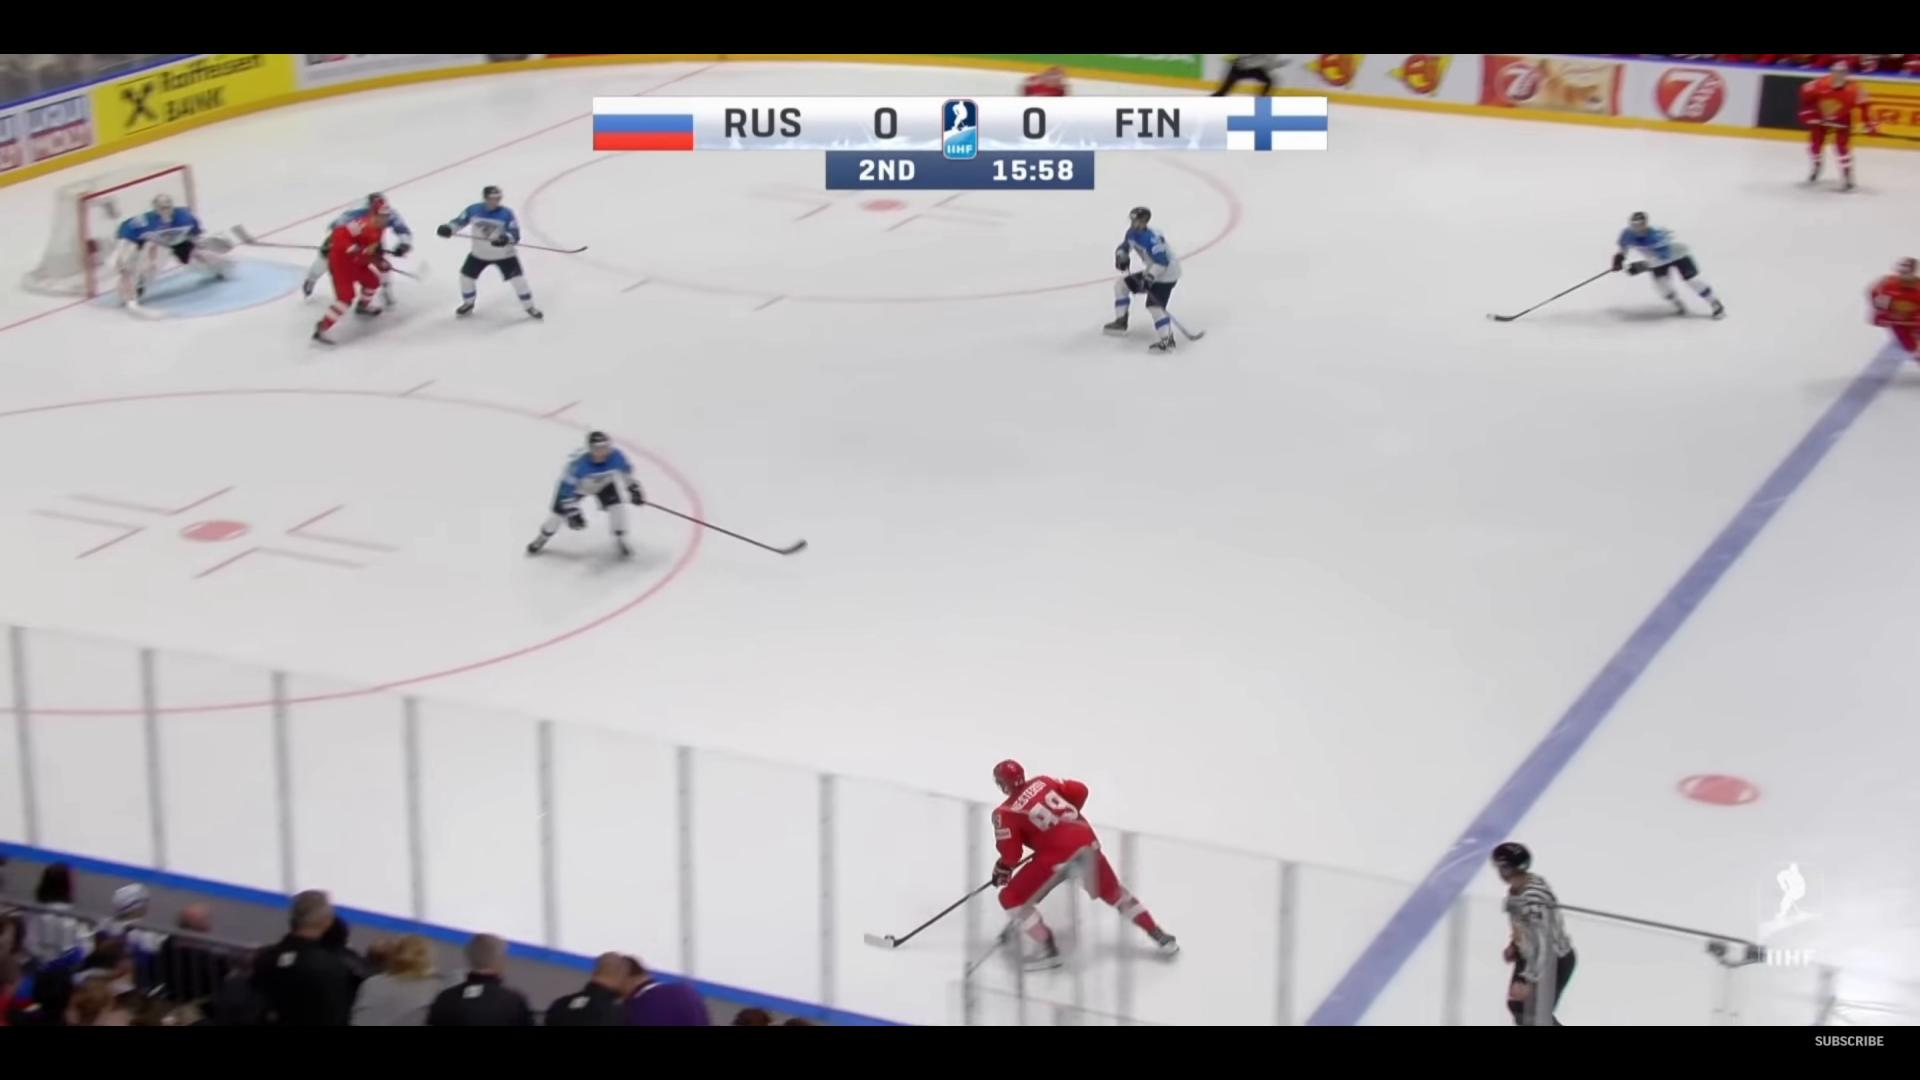puck: (884, 934, 895, 940)
